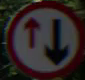Two way: (15, 8, 74, 65)
